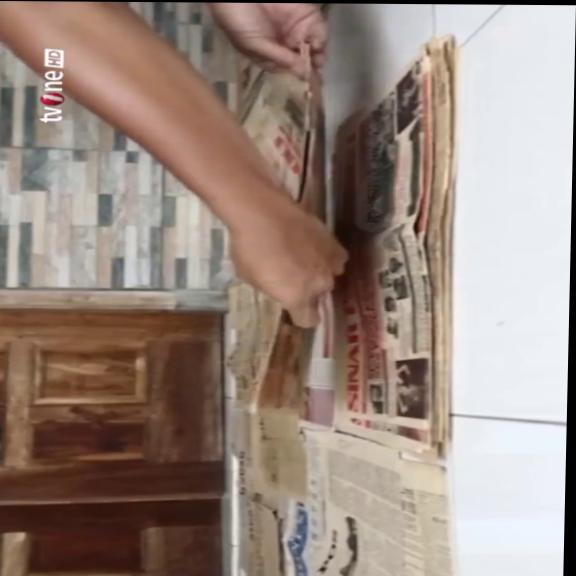Kertas: (287, 425, 459, 576)
